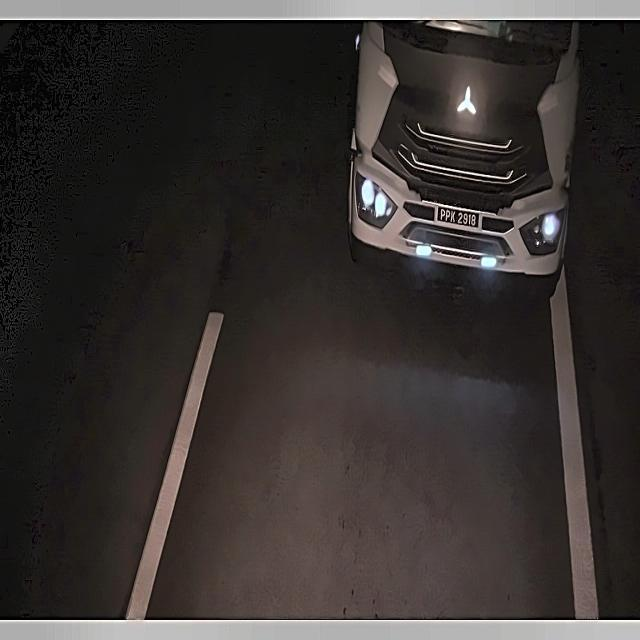car: (431, 198, 487, 238)
